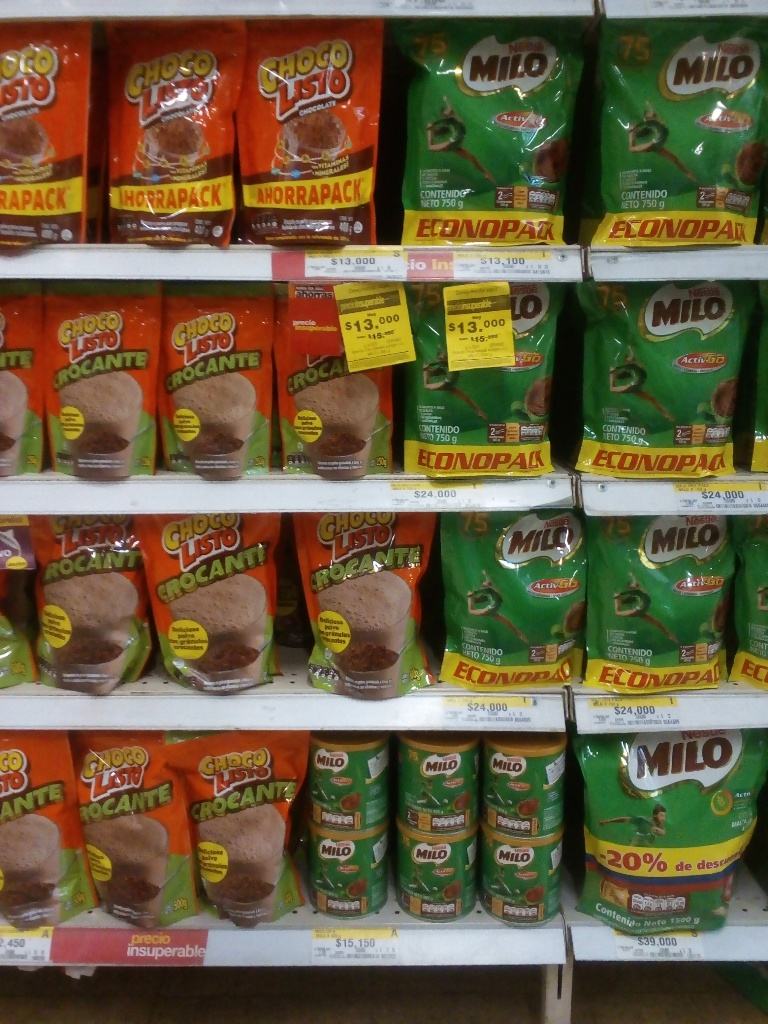COL0170102DYP25000: (43, 283, 157, 483)
COL0170102DYP50000: (23, 520, 156, 693)
COL0170103DYP40000: (100, 25, 247, 248)
COL0170203LAT40000: (308, 732, 391, 832)
